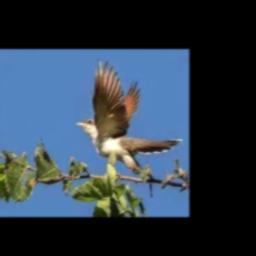Cuckoo: (75, 58, 183, 172)
